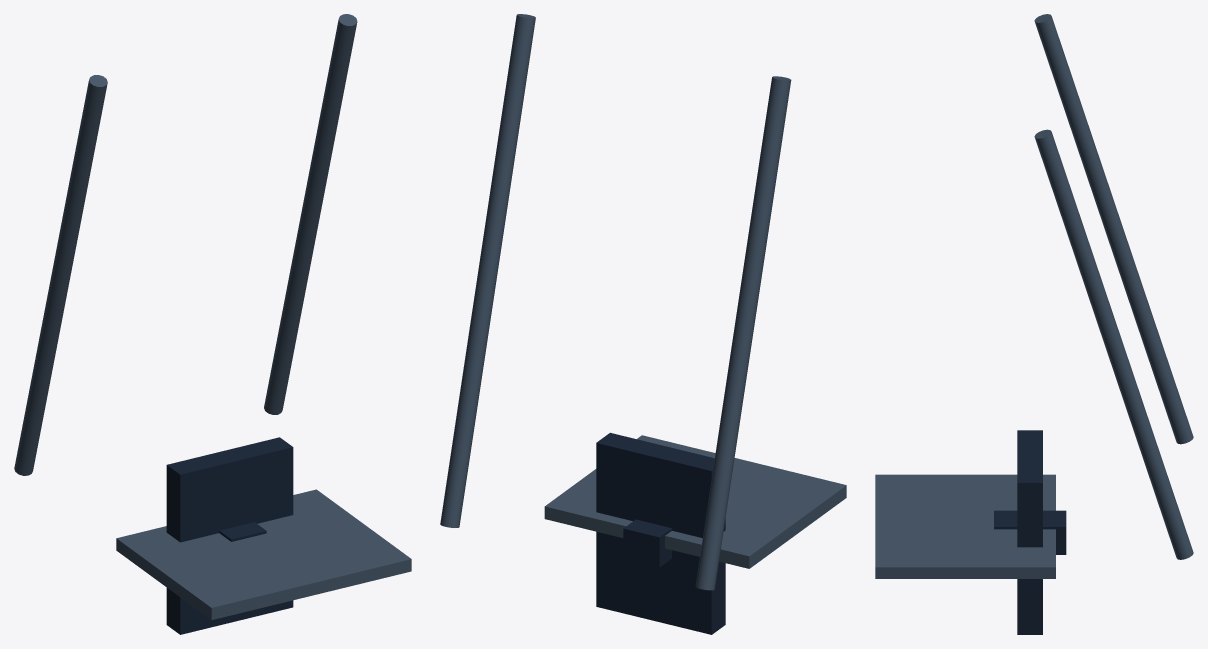
Rendered from hack_squat.glb.
The picture shows the model from 3 angles, left to right: view 1: azimuth 30°, elevation 25°; view 2: azimuth 150°, elevation 25°; view 3: azimuth 270°, elevation 25°; orthographic projection. The views are drawn at different scales.
Parts seen in each view (by area): view 1: platform, slideRail (×2), movingBack, LshoulderPad; view 2: slideRail (×2), movingBack, platform, LshoulderPad; view 3: slideRail (×2), platform, movingBack, LshoulderPad.
Boxes of the visible parts, x1=… form: platform: x1=116, y1=489, x2=411, y2=620; slideRail (×2): x1=14, y1=14, x2=357, y2=475; movingBack: x1=166, y1=437, x2=293, y2=634; LshoulderPad: x1=219, y1=522, x2=266, y2=541; slideRail (×2): x1=440, y1=14, x2=791, y2=590; movingBack: x1=596, y1=432, x2=725, y2=634; platform: x1=544, y1=435, x2=846, y2=568; LshoulderPad: x1=623, y1=519, x2=671, y2=567; slideRail (×2): x1=1034, y1=14, x2=1193, y2=559; platform: x1=875, y1=474, x2=1055, y2=578; movingBack: x1=1017, y1=430, x2=1042, y2=634; LshoulderPad: x1=994, y1=510, x2=1066, y2=554.
Size of the model in its own units: 1.13 by 2.29 by 1.23.
